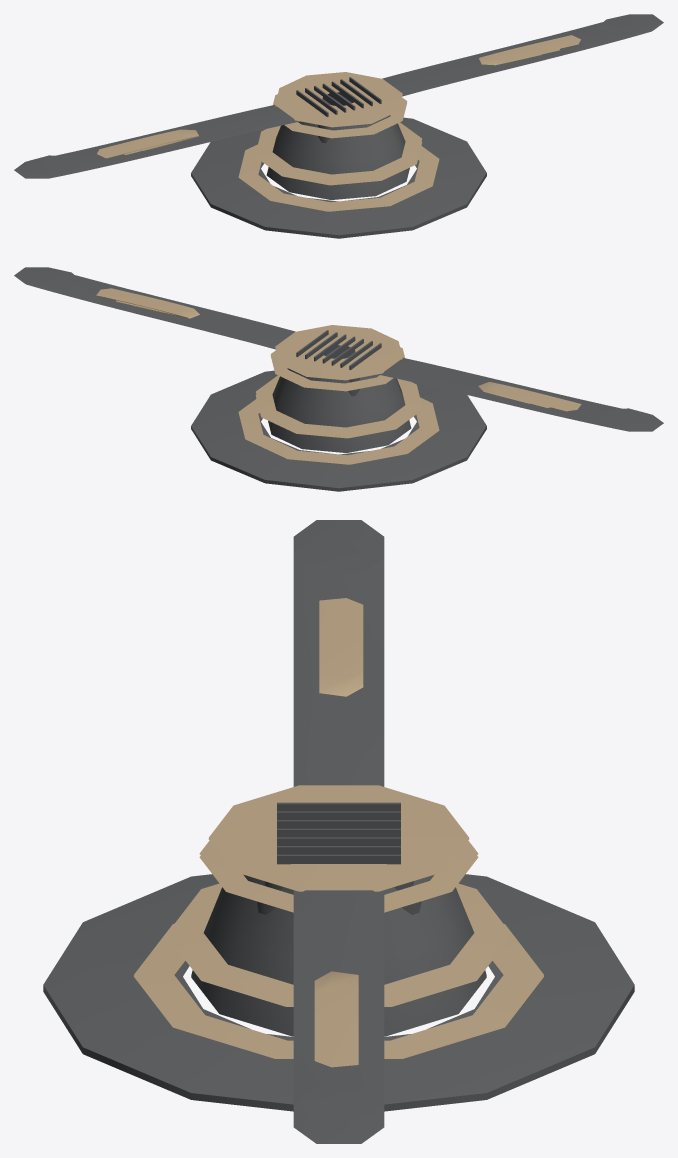
File: VenueFixtures.glb
3 renders of one model, top to bottom at view 1: azimuth 30°, elevation 25°; view 2: azimuth 150°, elevation 25°; view 3: azimuth 270°, elevation 25°, orthographic. The views are drawn at different scales.
Parts seen in each view (by area): view 1: Mast_LowPoly, Mast_Professional, Luminaire; view 2: Mast_LowPoly, Mast_Professional, Luminaire; view 3: Mast_LowPoly, Mast_Professional, Luminaire.
Boxes of the visible parts, x1=… form: Mast_LowPoly: x1=14, y1=24, x2=661, y2=238; Mast_Professional: x1=14, y1=14, x2=663, y2=237; Luminaire: x1=296, y1=77, x2=392, y2=143; Mast_LowPoly: x1=16, y1=277, x2=663, y2=491; Mast_Professional: x1=14, y1=267, x2=663, y2=490; Luminaire: x1=285, y1=330, x2=381, y2=396; Mast_LowPoly: x1=43, y1=559, x2=634, y2=1143; Mast_Professional: x1=43, y1=520, x2=634, y2=1143; Luminaire: x1=256, y1=802, x2=421, y2=914.
Bounding box in the file's own units: 8.48 × 1.03 × 3.4.
